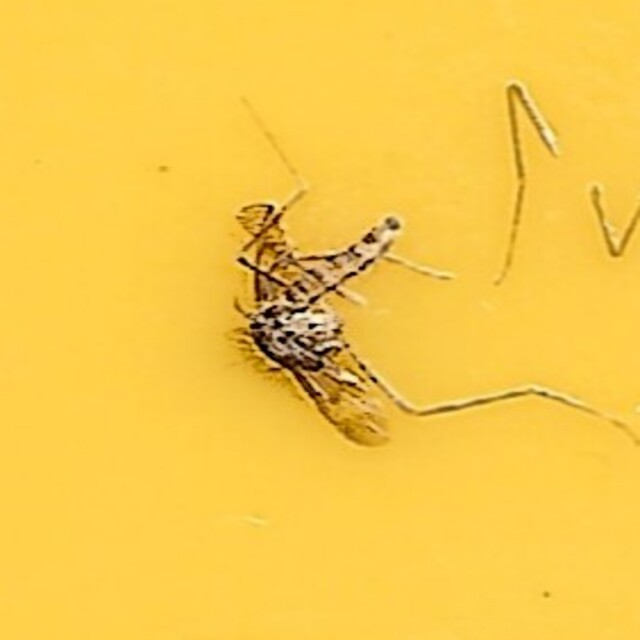Nematocera: (227, 185, 413, 455)
